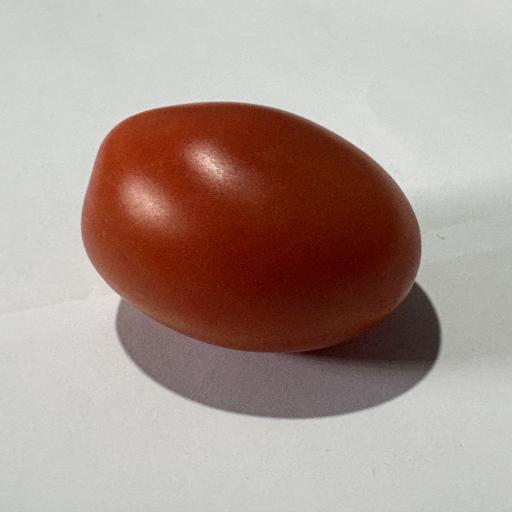ripe: (82, 102, 421, 352)
